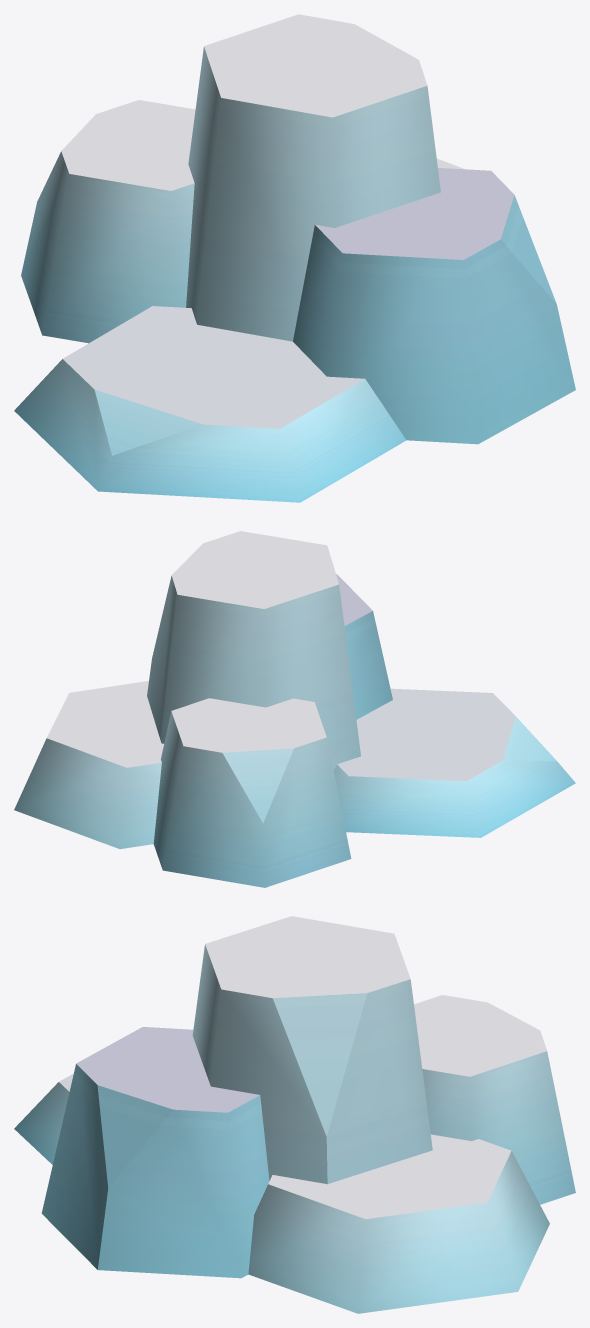
The model's file is snow-detail-rocks-large.glb.
The picture shows the model from 3 angles, top to bottom: view 1: azimuth 30°, elevation 25°; view 2: azimuth 150°, elevation 25°; view 3: azimuth 270°, elevation 25°; orthographic projection. The views are drawn at different scales.
Parts seen in each view (by area): view 1: snow-detail-rocks-large; view 2: snow-detail-rocks-large; view 3: snow-detail-rocks-large.
Boxes of the visible parts, bbox=[...] form: snow-detail-rocks-large: bbox=[14, 14, 575, 502]; snow-detail-rocks-large: bbox=[14, 531, 575, 887]; snow-detail-rocks-large: bbox=[14, 916, 575, 1313].
Size of the model in its own units: 0.8922 by 0.4145 by 0.8593.
Materials: 1 (1 with a texture image).
